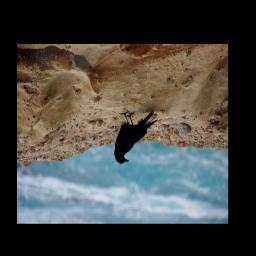Crow: (114, 109, 158, 166)
